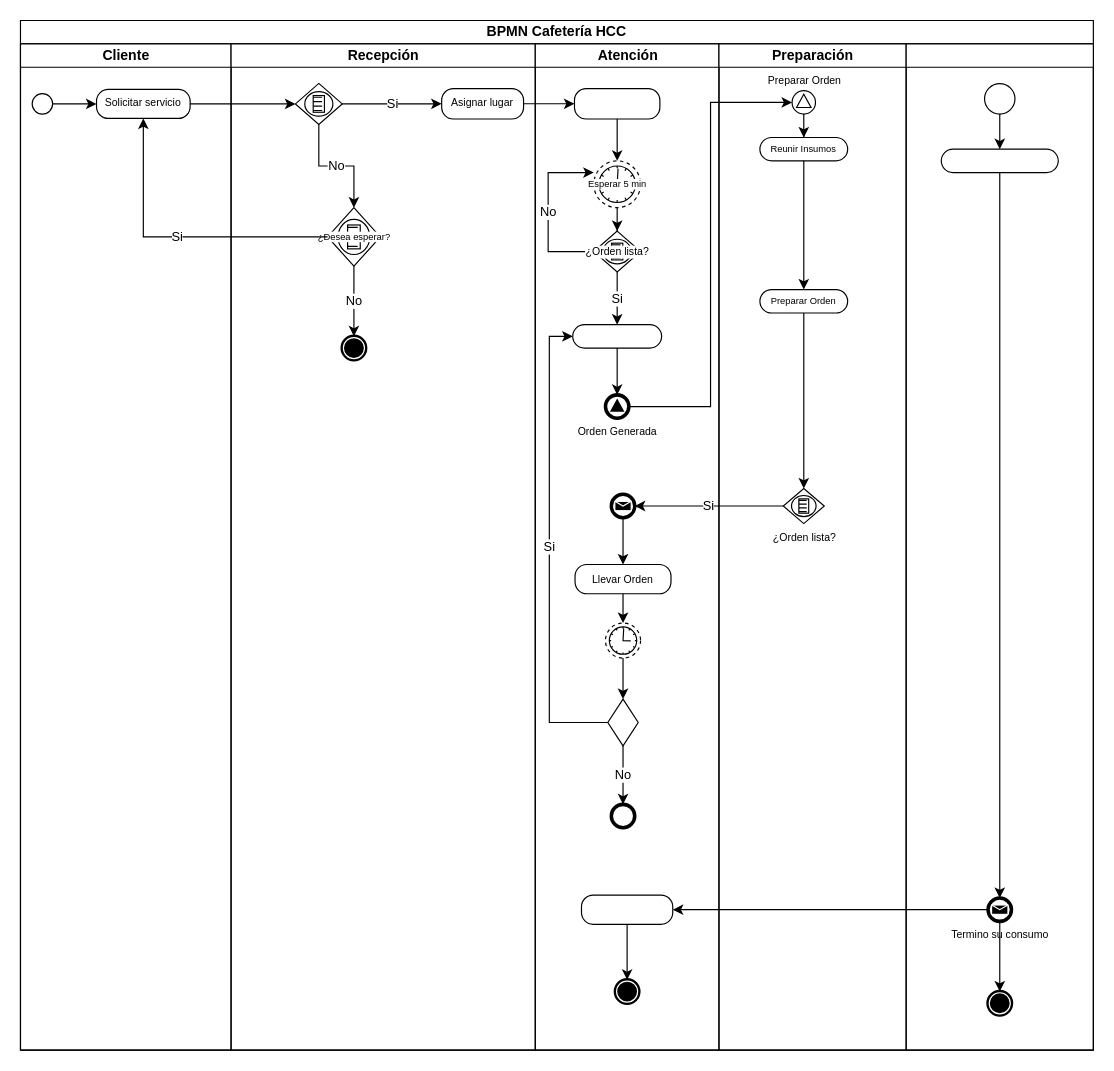
The diagram is 1114 pixels wide and 1071 high, and some of its shapes have lost their labels. Each missing label, with the box of its shape:
Caja: (905, 43, 1093, 1050)
Entregar menú: (573, 87, 660, 119)
Esperar 20 min: (604, 622, 641, 658)
Generar Orden: (572, 324, 662, 348)
Limpiar mesa: (580, 894, 673, 924)
Orden lista: (610, 493, 635, 518)
Recibir pago del Cliente: (940, 148, 1058, 173)
¿Algo más?: (607, 698, 638, 746)
¿Lugar Disponible?: (294, 82, 342, 124)
